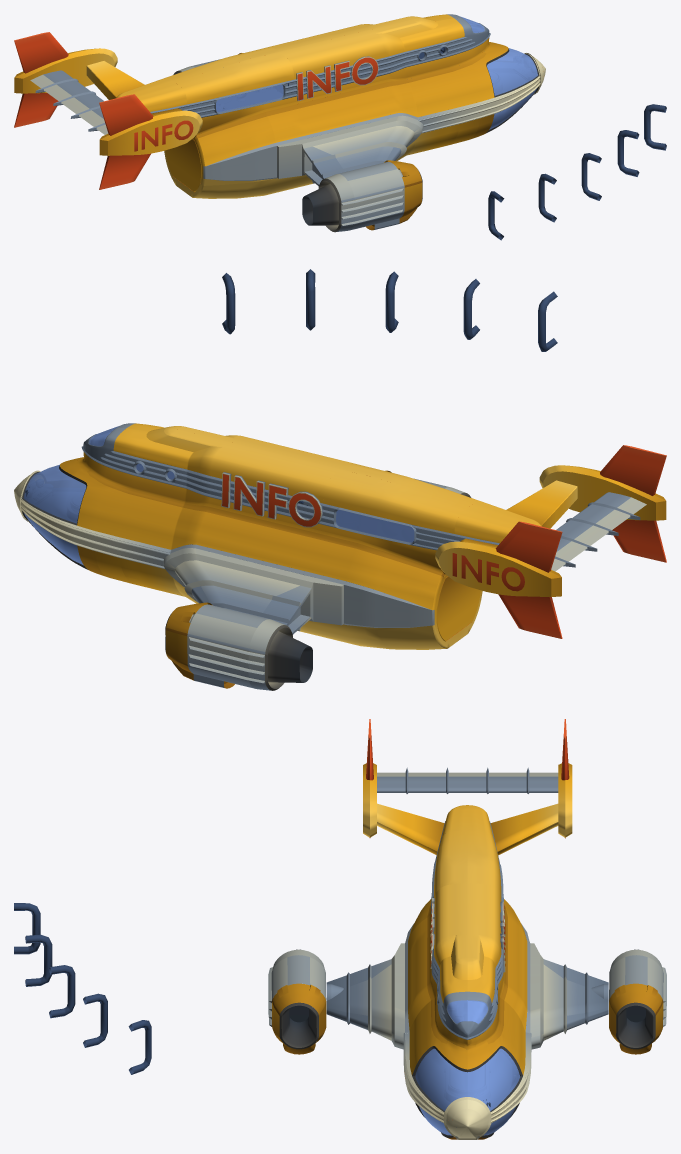
The model's file is lemterprise_only1.glb.
3 renders of one model, top to bottom at view 1: azimuth 30°, elevation 25°; view 2: azimuth 150°, elevation 25°; view 3: azimuth 270°, elevation 25°, orthographic. The views are drawn at different scales.
Visible parts, largest first — view 1: lemterprise_main, lemterprise_dissolve_d, lemterprise_dissolve_a, lemterprise_engines.001, lemterprise_dissolve_b, lemterprise_dissolve_e, lemterprise_dissolve_c, Plane.012, lemterprise_main.005, lemterprise_main.006, Plane.013; view 2: lemterprise_main, lemterprise_engines.001, Plane.012, lemterprise_main.004, lemterprise_dissolve_e, lemterprise_dissolve_a, lemterprise_dissolve_c; view 3: lemterprise_main, lemterprise_engines.001, lemterprise_dissolve_d, lemterprise_dissolve_b, lemterprise_dissolve_a, Plane.012, lemterprise_main.003, lemterprise_main.004, lemterprise_dissolve_c, Cylinder.007.
Part boxes in pixels (x1,y1,x2,y2): lemterprise_main: [14, 14, 545, 198]; lemterprise_dissolve_d: [266, 79, 423, 186]; lemterprise_dissolve_a: [280, 18, 490, 100]; lemterprise_engines.001: [173, 53, 422, 232]; lemterprise_dissolve_b: [407, 43, 543, 125]; lemterprise_dissolve_e: [165, 112, 276, 191]; lemterprise_dissolve_c: [175, 52, 294, 117]; Plane.012: [488, 104, 666, 240]; lemterprise_main.005: [489, 88, 537, 129]; lemterprise_main.006: [487, 62, 536, 80]; Plane.013: [216, 91, 281, 109]; lemterprise_main: [14, 428, 666, 649]; lemterprise_engines.001: [165, 470, 471, 690]; Plane.012: [222, 269, 557, 351]; lemterprise_main.004: [24, 466, 86, 523]; lemterprise_dissolve_e: [436, 576, 482, 641]; lemterprise_dissolve_a: [93, 423, 352, 469]; lemterprise_dissolve_c: [341, 463, 479, 506]; lemterprise_main: [363, 719, 608, 1139]; lemterprise_engines.001: [268, 949, 666, 1054]; lemterprise_dissolve_d: [326, 914, 434, 1049]; lemterprise_dissolve_b: [403, 998, 467, 1122]; lemterprise_dissolve_a: [430, 883, 467, 1039]; Plane.012: [14, 903, 151, 1074]; lemterprise_main.003: [416, 1049, 510, 1109]; lemterprise_main.004: [467, 1048, 520, 1111]; lemterprise_dissolve_c: [431, 830, 467, 913]; Cylinder.007: [445, 1063, 490, 1101].
Bounding box in the file's own units: 33.16 × 10.66 × 33.42.
17 materials, 10 textured.
